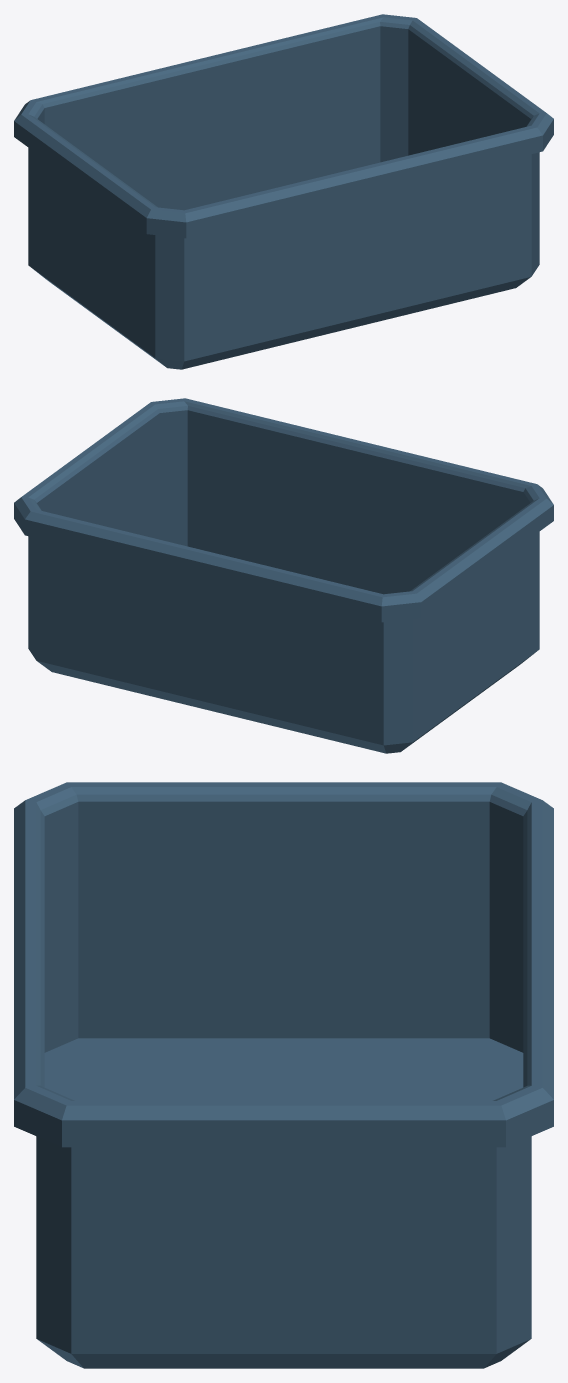
Rendered from Basket.fbx.
The picture shows the model from 3 angles, top to bottom: view 1: azimuth 30°, elevation 25°; view 2: azimuth 150°, elevation 25°; view 3: azimuth 270°, elevation 25°; orthographic projection. The views are drawn at different scales.
Parts seen in each view (by area): view 1: pCube1; view 2: pCube1; view 3: pCube1.
Boxes of the visible parts, <box> form: pCube1: <box>14,14,553,369</box>; pCube1: <box>14,398,553,753</box>; pCube1: <box>14,782,553,1368</box>.
Bounding box in the file's own units: 6.36 × 2.5 × 4.36.
